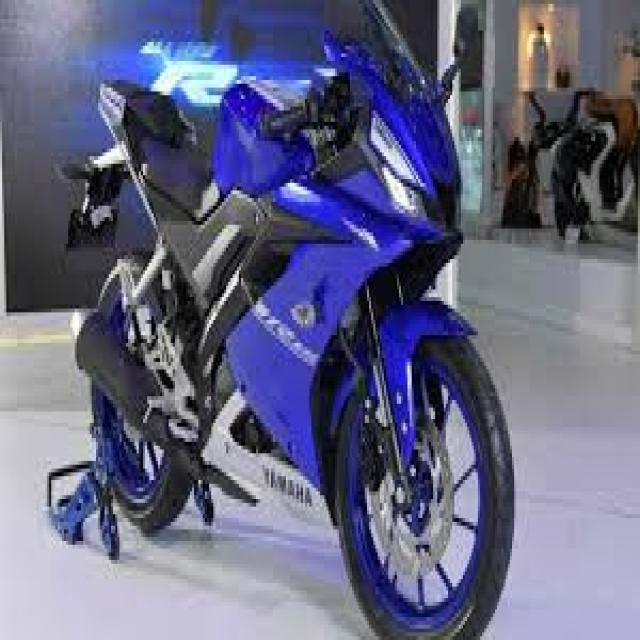Bike: (54, 0, 516, 640)
